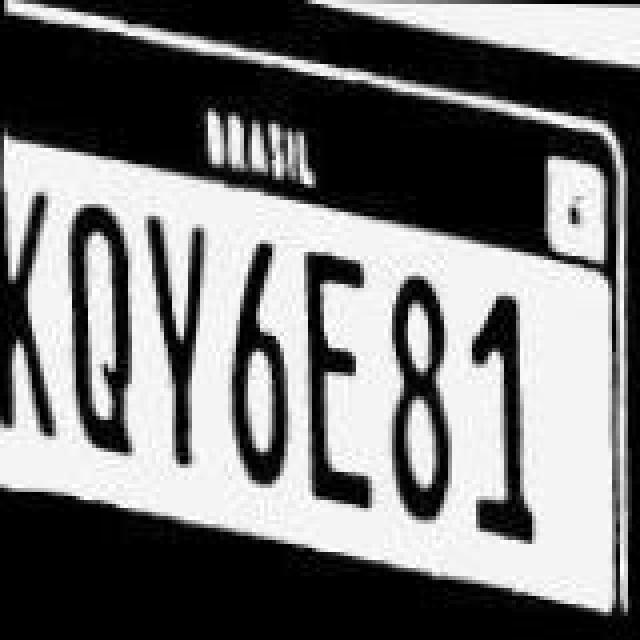1: (464, 282, 540, 550)
6: (224, 224, 296, 492)
8: (386, 256, 458, 524)
E: (300, 238, 380, 514)
K: (0, 168, 64, 444)
Q: (68, 186, 140, 462)
Y: (142, 206, 210, 478)
